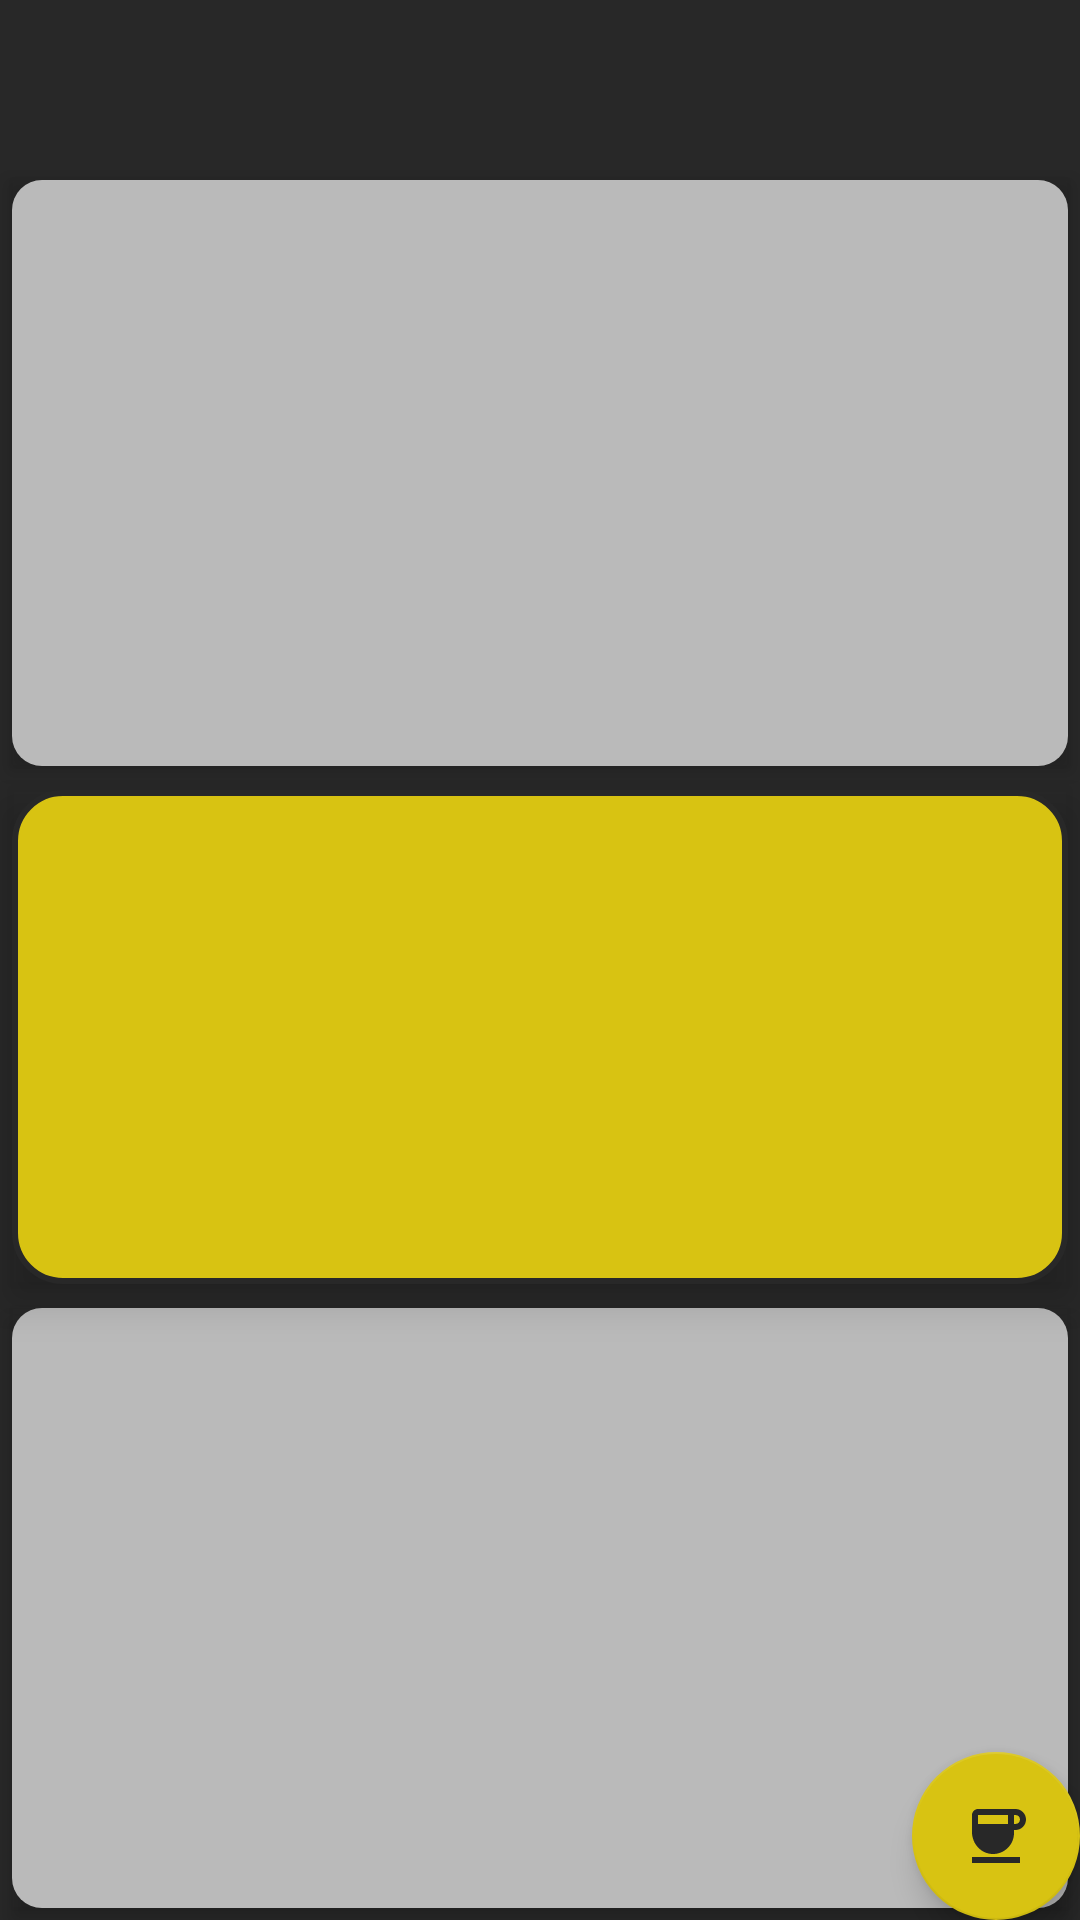

Icons on this 1080w x 1920h Android screen, each with its box as (x1, y1, x2, y2):
coffee: (912, 1752, 1080, 1920)
